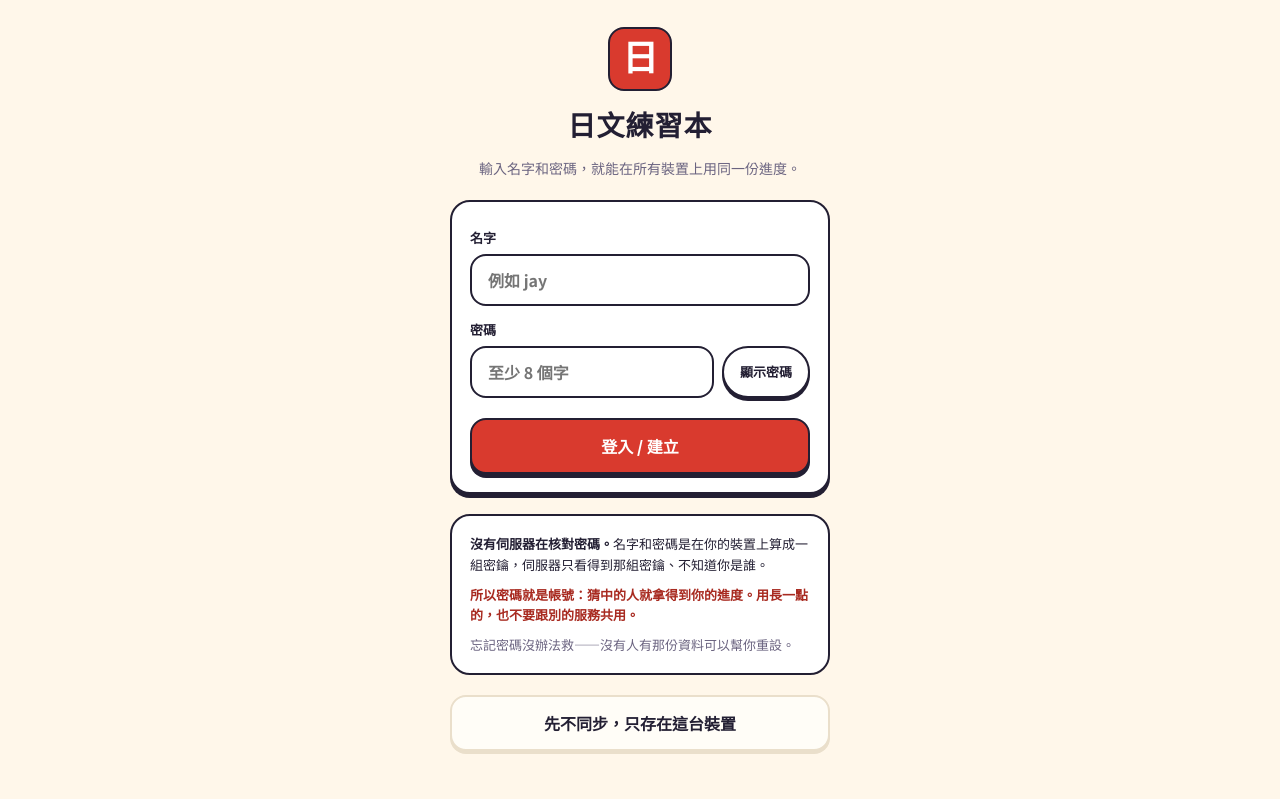
Test case: 登出 › 登出後「只存這台」的選擇也清掉，不然會跳過登入頁
Click the button "先不同步，只存在這台裝置": (640, 723) [450,695,830,751]
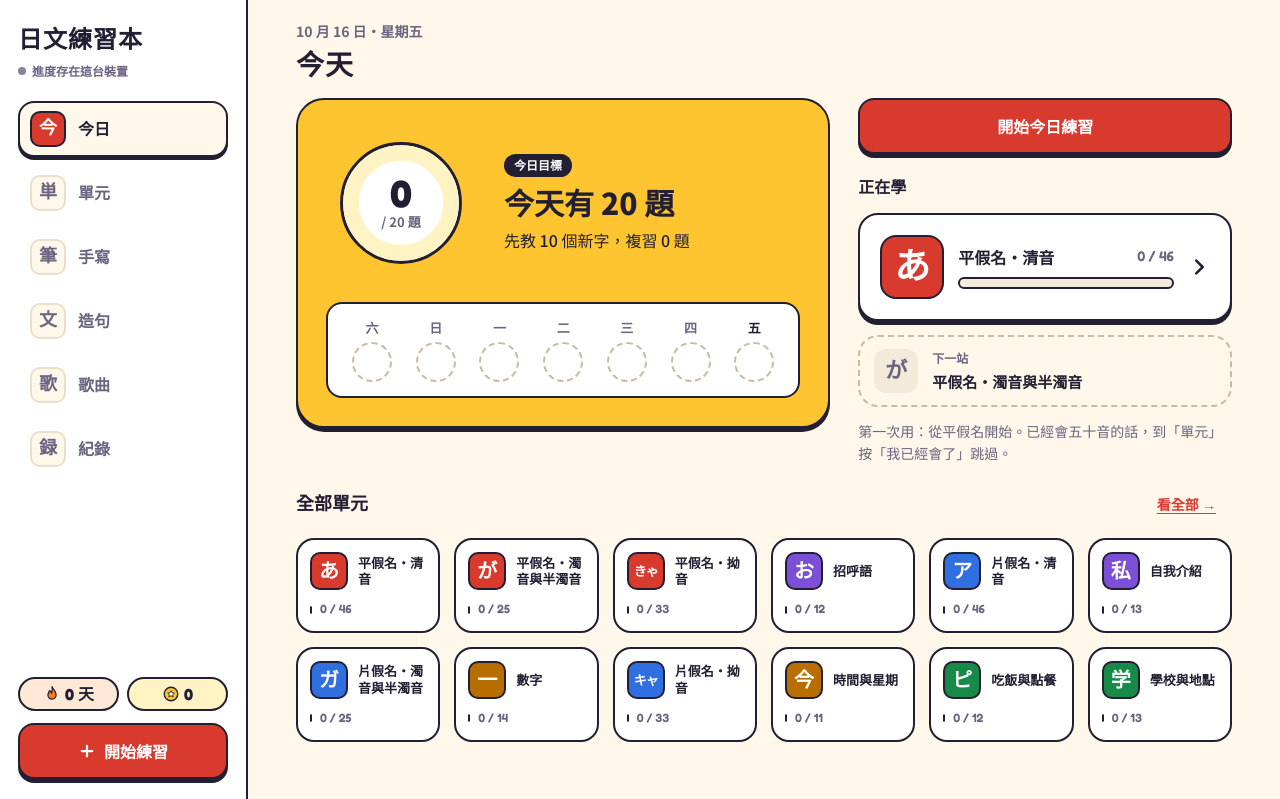
Click the button "録 紀錄": (123, 449) [18,421,228,477]
(page scrolled)
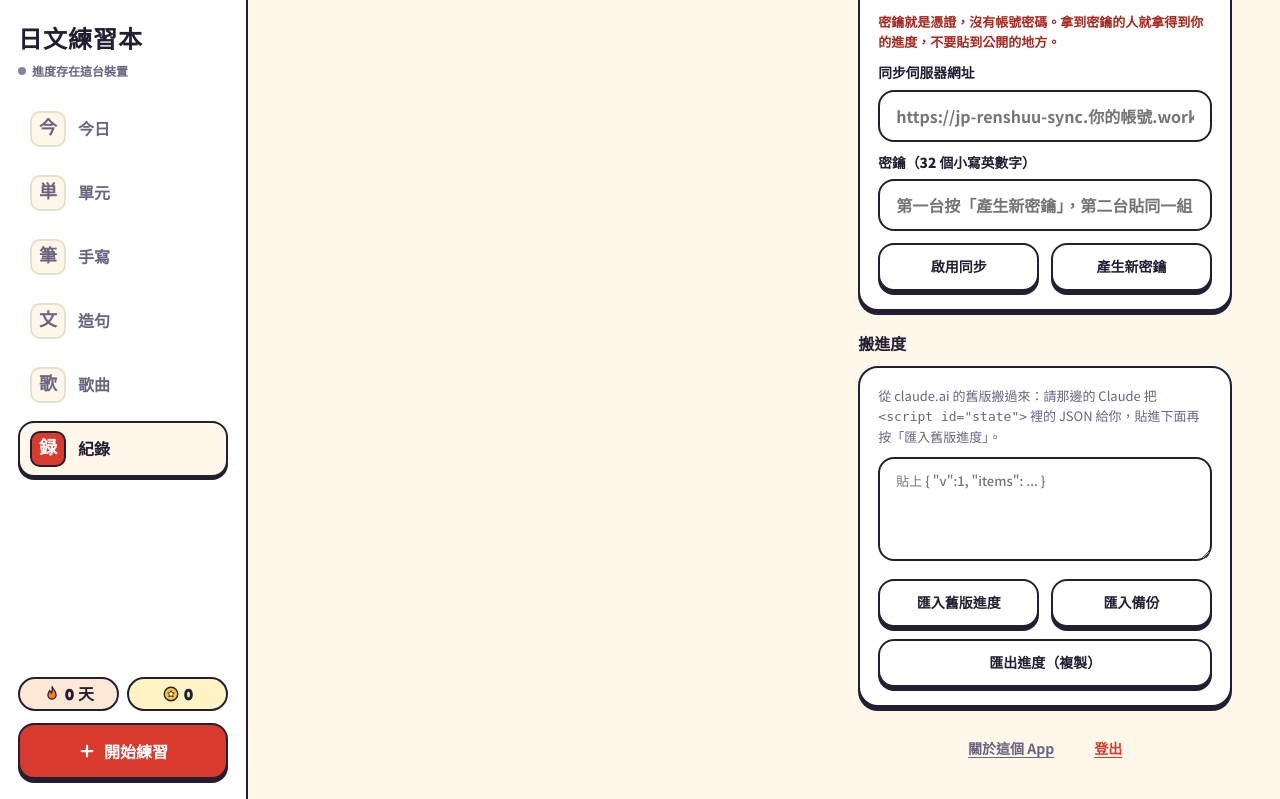
Click the button "登出": (1108, 749) [1078,727,1138,771]
(page scrolled)
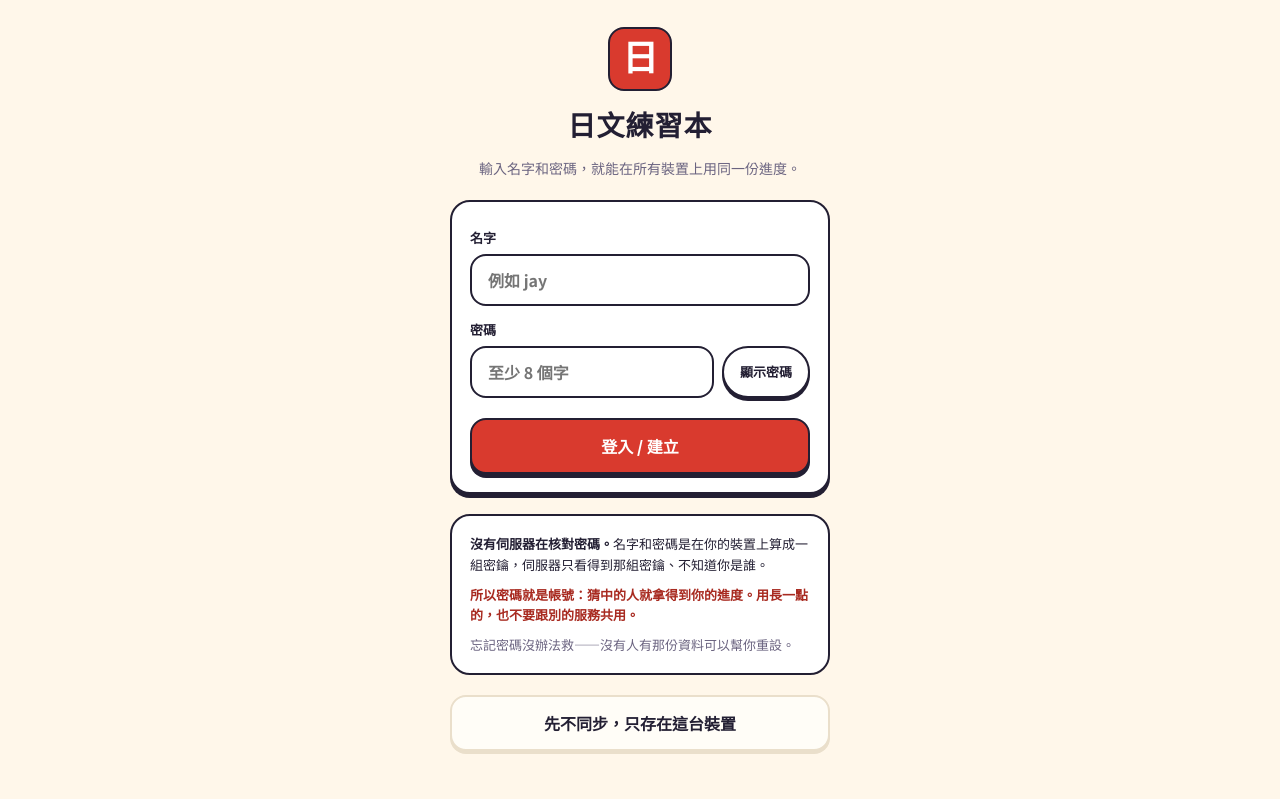
Now the button "登入 / 建立" is shown, box [470,418,810,474]
